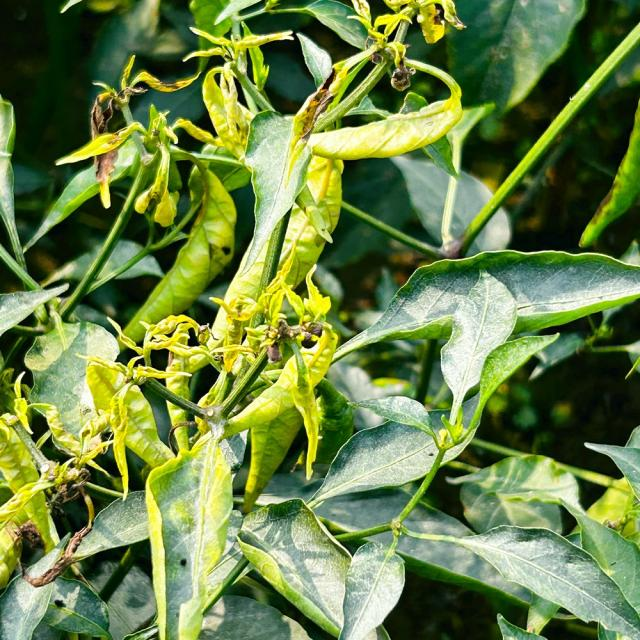Chilli_Leaf_Curl: (1, 1, 638, 638), (327, 247, 639, 438), (143, 428, 235, 638), (234, 496, 353, 636), (438, 268, 519, 435)
